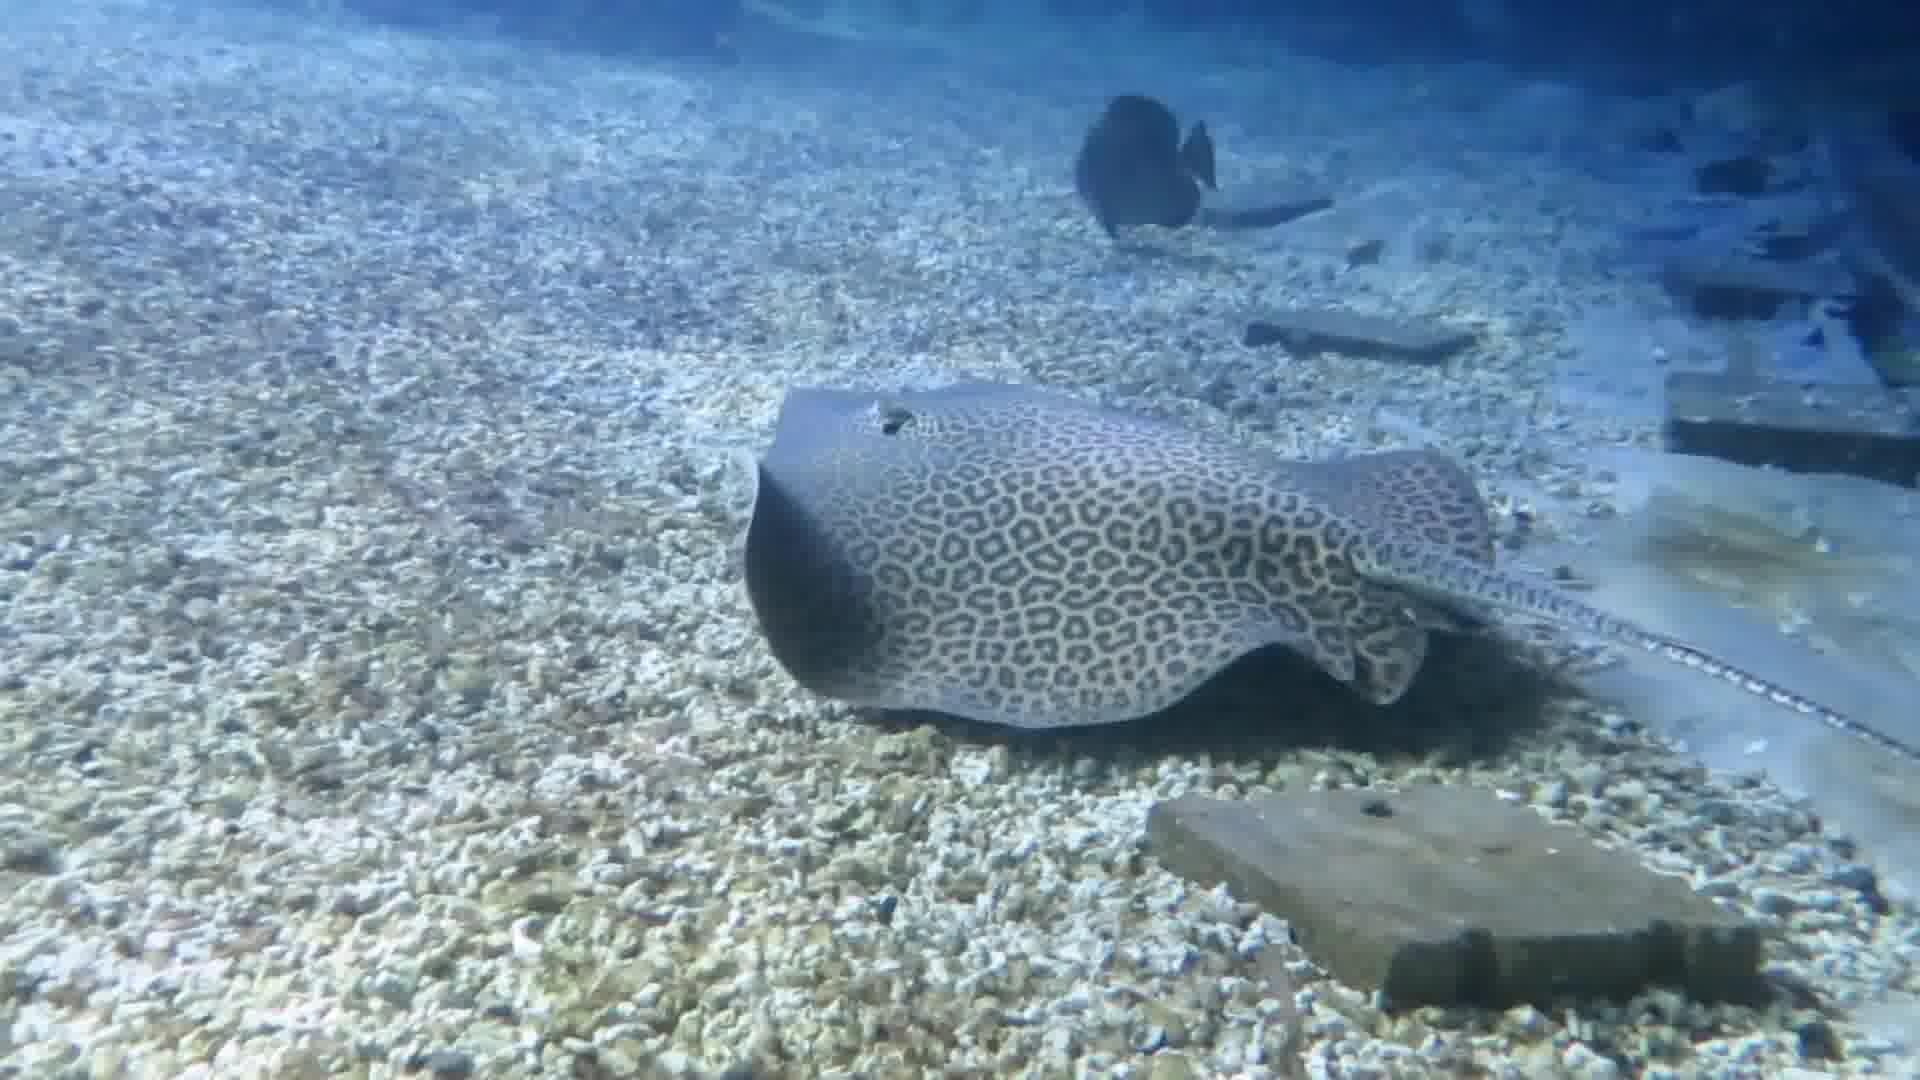Himantura uarnak: (641, 266, 1920, 814)
